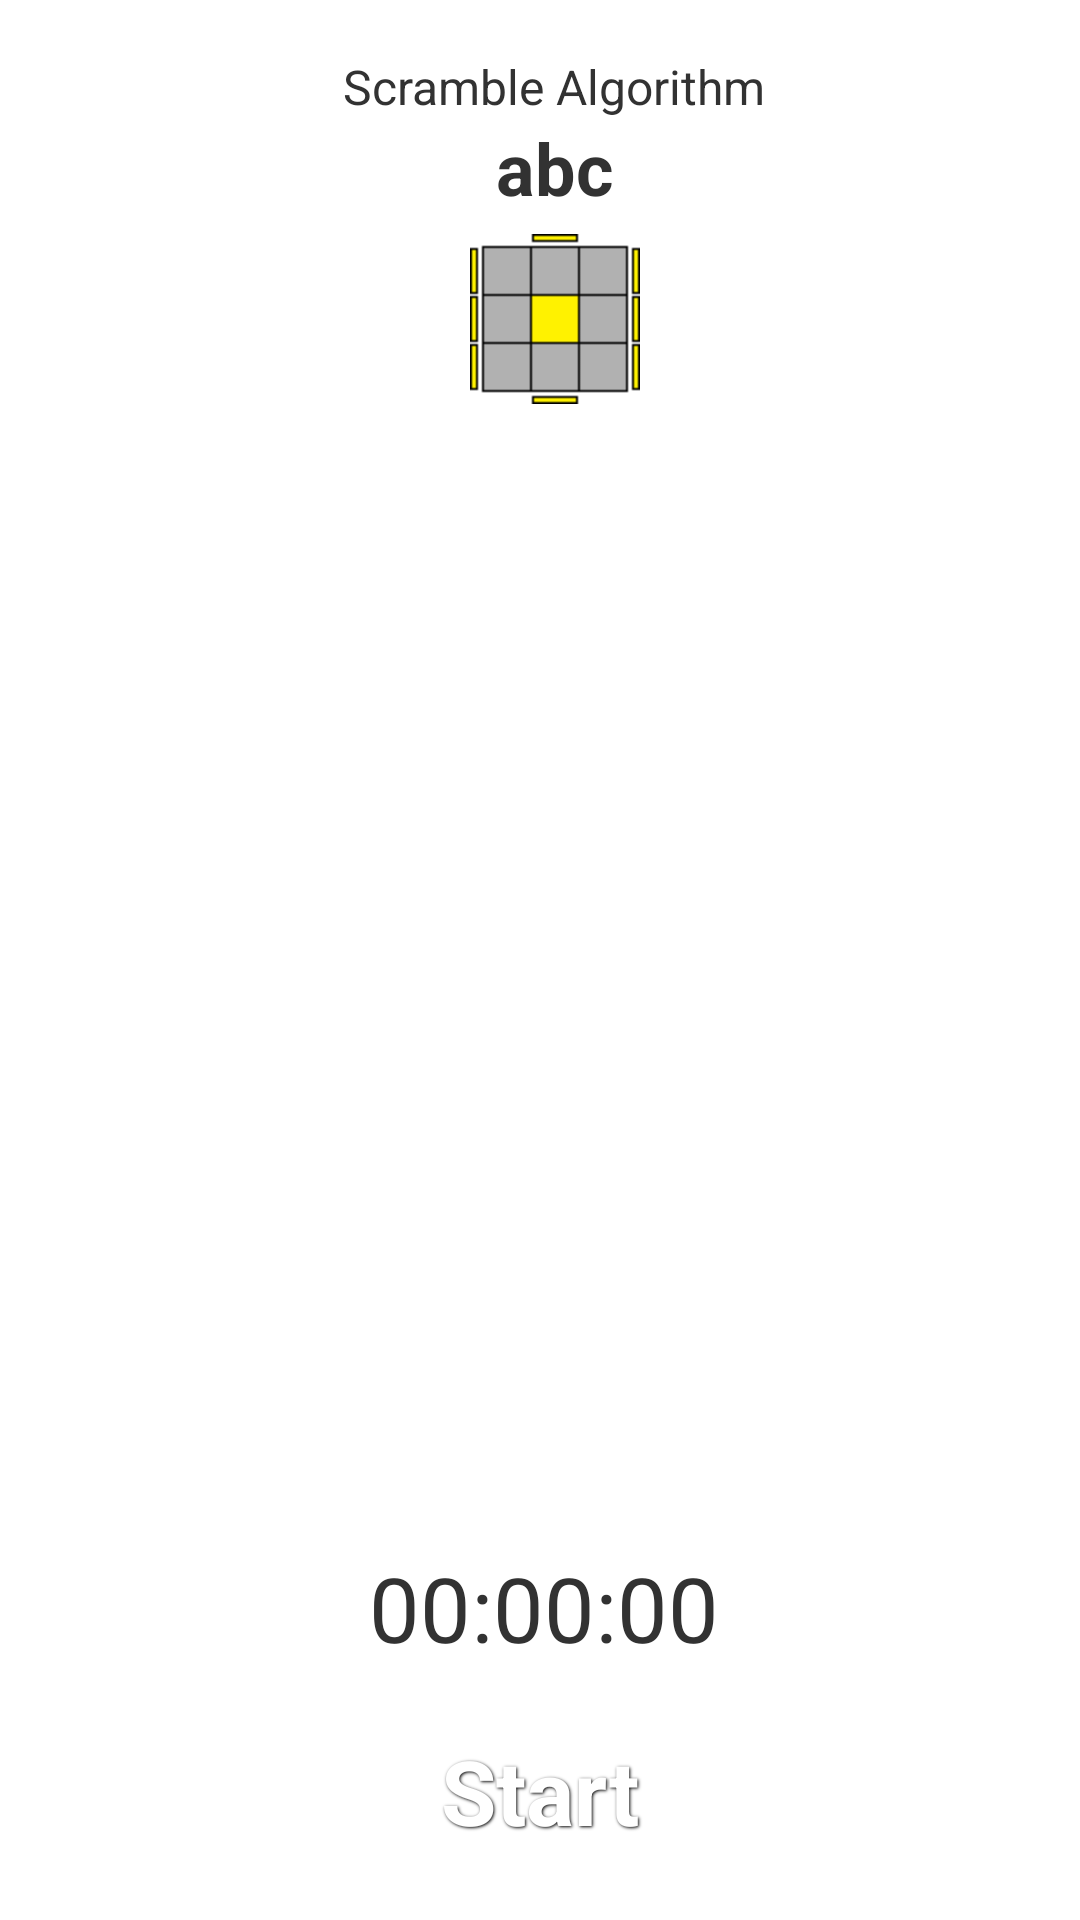

Icons on this 1080w x 1920h Android screen, each with its box as [x1, y1, x2, y2]:
oll: [470, 234, 640, 404]
